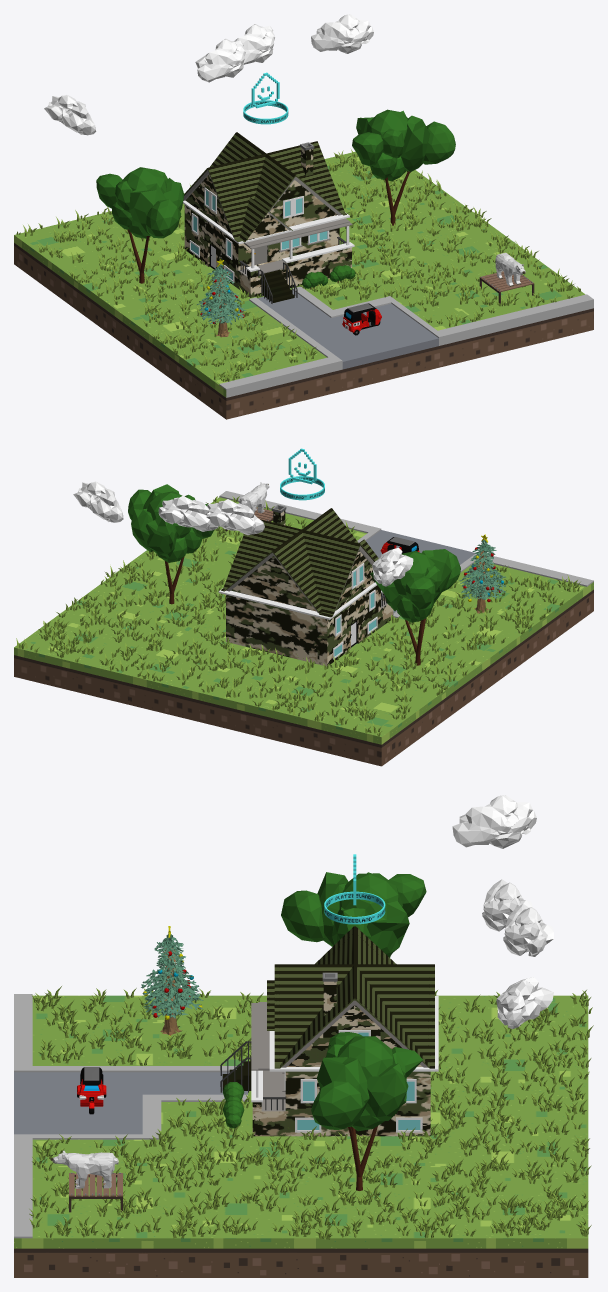
3 renders of one model, top to bottom at view 1: azimuth 30°, elevation 25°; view 2: azimuth 150°, elevation 25°; view 3: azimuth 270°, elevation 25°, orthographic. The views are drawn at different scales.
Parts seen in each view (by area): view 1: Cube.006, Cube.001, Circle.012_Grass_0.192, Cube.007, tree, tree.001, OBJRANDOM_CHRISTMAS_TREE, TYPE_PREMIUM, VEHICLES_TUC_TUC, ANIMAL_OSO_POLAR, Cube.009; view 2: Cube.006, Cube.001, Circle.012_Grass_0.192, Cube.007, tree.001, tree, OBJRANDOM_CHRISTMAS_TREE, TYPE_PREMIUM, ANIMAL_OSO_POLAR, VEHICLES_TUC_TUC; view 3: Cube.006, Circle.012_Grass_0.192, Cube.001, tree, Cube.007, tree.001, OBJRANDOM_CHRISTMAS_TREE, ANIMAL_OSO_POLAR, TYPE_PREMIUM, Cube.009, VEHICLES_TUC_TUC.
Part boxes in pixels (box(x1,y1,x2,y2)): Cube.006: box(14, 151, 593, 419); Cube.001: box(183, 132, 354, 303); Circle.012_Grass_0.192: box(16, 149, 580, 381); Cube.007: box(44, 14, 373, 135); tree: box(352, 109, 455, 225); tree.001: box(96, 167, 184, 283); OBJRANDOM_CHRISTMAS_TREE: box(197, 259, 246, 337); TYPE_PREMIUM: box(243, 72, 288, 124); VEHICLES_TUC_TUC: box(342, 303, 381, 335); ANIMAL_OSO_POLAR: box(495, 252, 525, 286); Cube.009: box(479, 271, 534, 303); Cube.006: box(14, 491, 593, 766); Cube.001: box(218, 505, 393, 666); Circle.012_Grass_0.192: box(16, 496, 580, 736); Cube.007: box(73, 481, 413, 586); tree.001: box(370, 549, 460, 665); tree: box(128, 484, 214, 604); OBJRANDOM_CHRISTMAS_TREE: box(459, 534, 505, 613); TYPE_PREMIUM: box(280, 448, 324, 500); ANIMAL_OSO_POLAR: box(239, 482, 269, 513); VEHICLES_TUC_TUC: box(380, 537, 419, 553); Cube.006: box(14, 994, 588, 1277); Circle.012_Grass_0.192: box(29, 986, 593, 1239); Cube.001: box(220, 926, 438, 1136); tree: box(311, 1032, 422, 1190); Cube.007: box(452, 795, 553, 1029); tree.001: box(281, 872, 426, 957); OBJRANDOM_CHRISTMAS_TREE: box(141, 926, 203, 1036); ANIMAL_OSO_POLAR: box(50, 1150, 118, 1188); TYPE_PREMIUM: box(324, 854, 385, 924); Cube.009: box(69, 1172, 122, 1212); VEHICLES_TUC_TUC: box(77, 1067, 106, 1114).
Bounding box in the file's own units: 4071 × 2401 × 4040.
39 materials, 6 textured.
